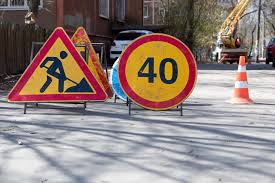obstacle: (14, 26, 107, 108), (121, 32, 197, 121), (230, 54, 252, 112)
